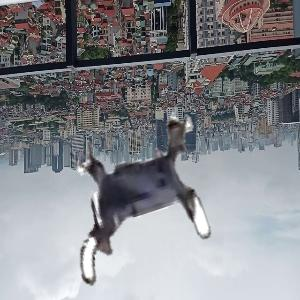drone: (52, 113, 225, 286)
